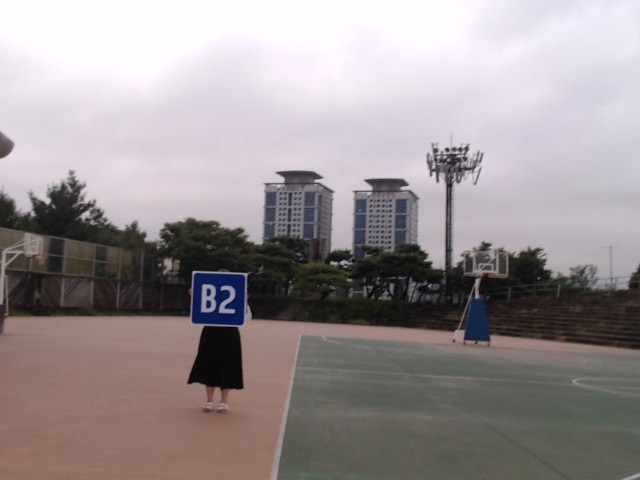delivery_b2: (191, 271, 247, 327)
